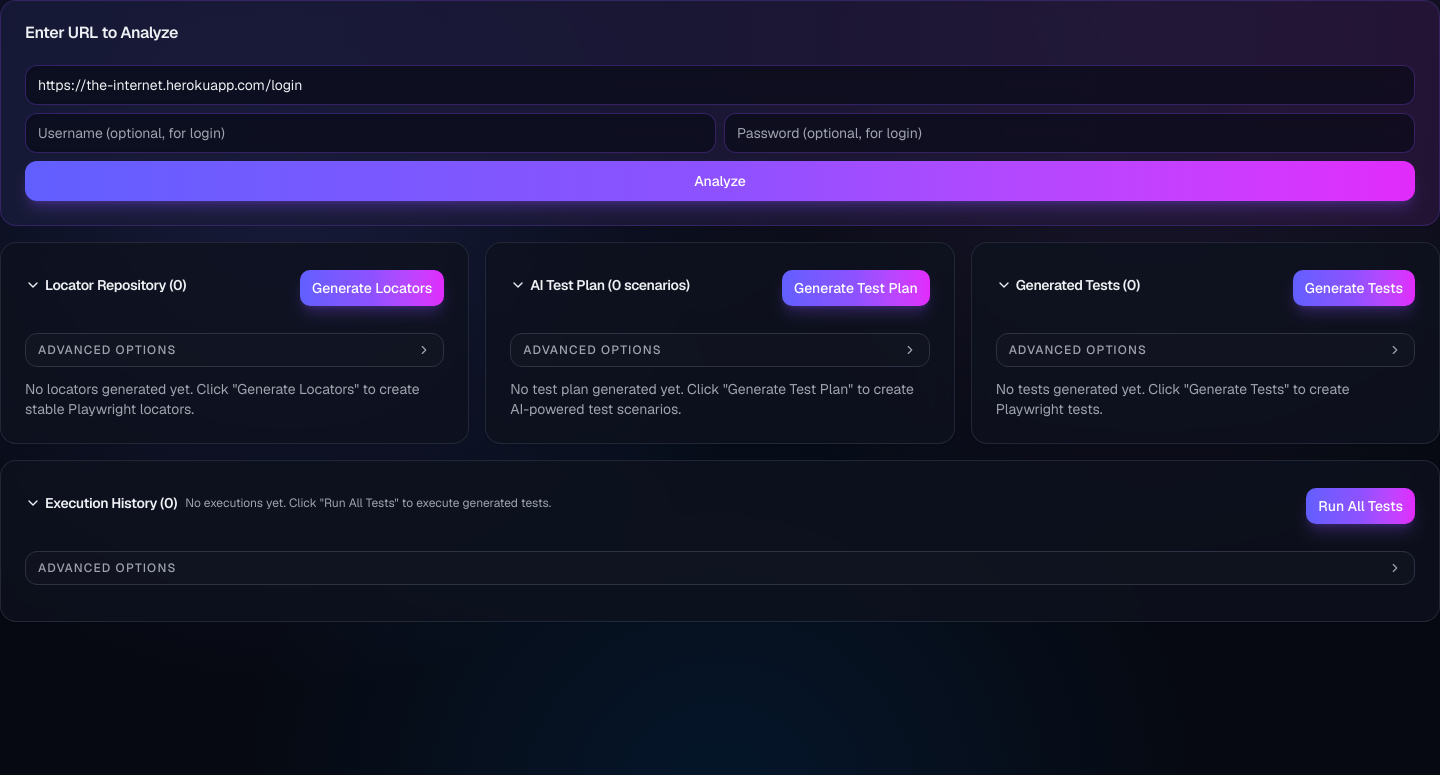
Scenario: QaWorkflow › passes the url, the project and the typed instruction to locator generation
Click the button "Analyze".
click(720, 181)  # box x1=25 y1=161 x2=1415 y2=201
(page scrolled)
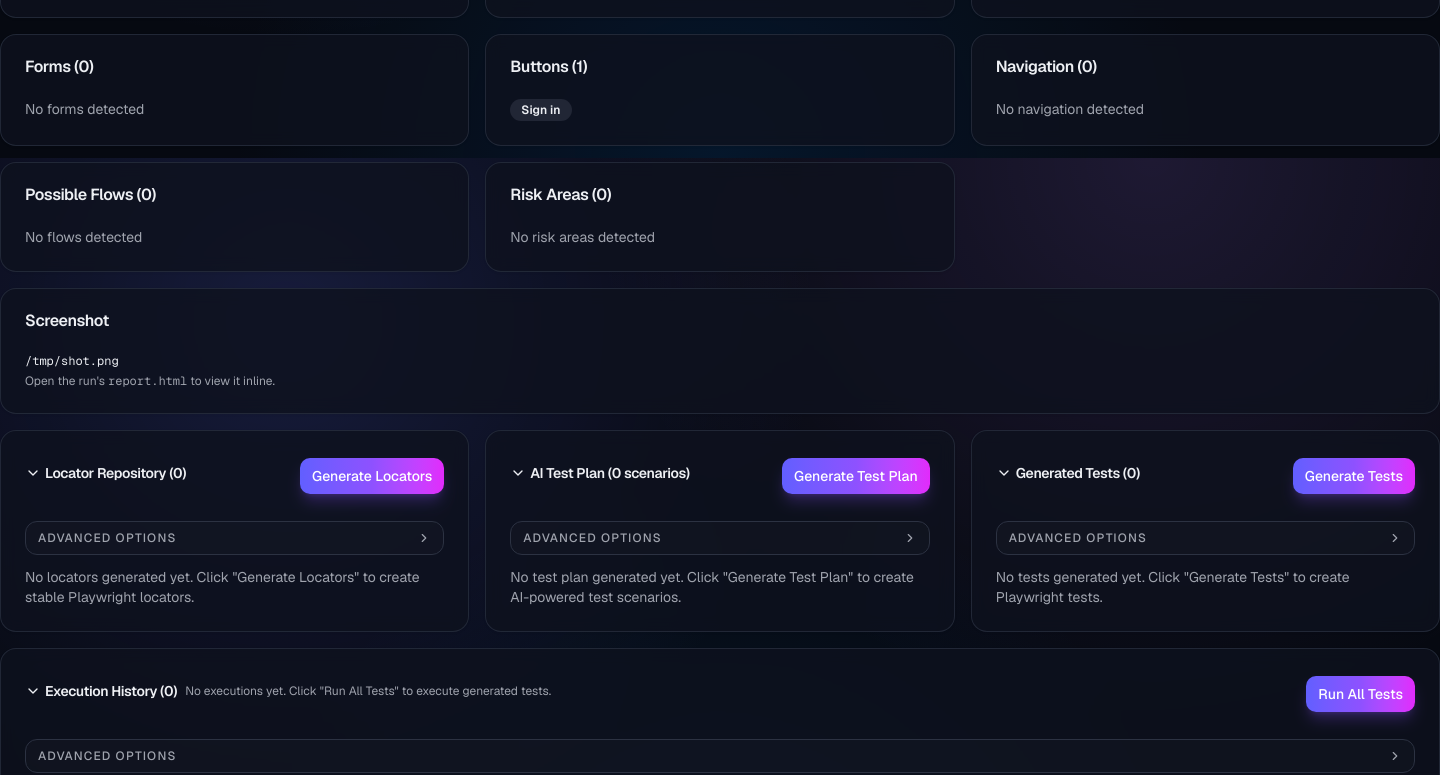
Expected: the text "Locator Repository" shows "Generate Locators", x1=300 y1=458 x2=444 y2=494
Click the 1st button "Advanced options".
click(107, 538)  # box x1=26 y1=522 x2=443 y2=554
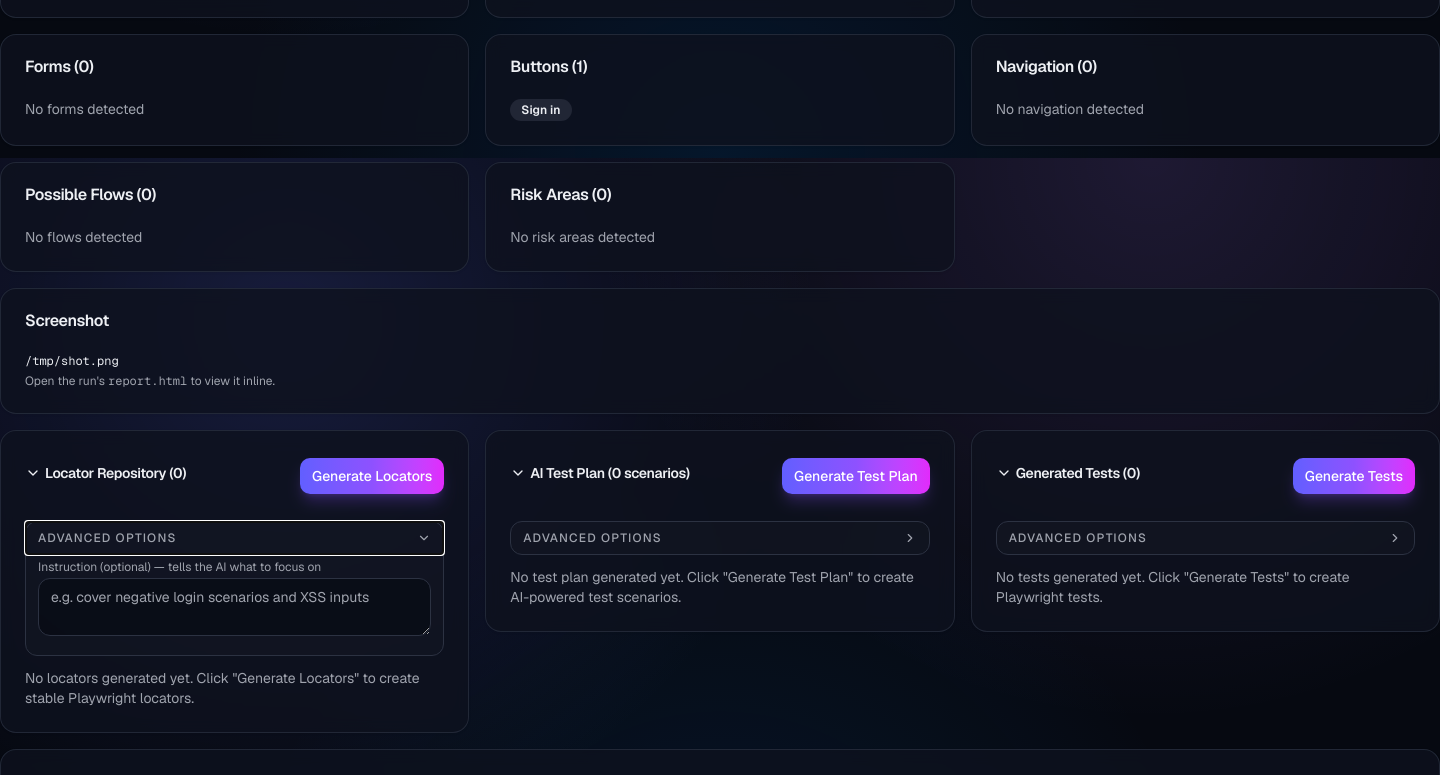
Type "focus on the email field" into the text box with placeholder "e.g. cover negative login scenarios and XSS inputs".
click(235, 607); type("focus on the email field")  # box x1=38 y1=578 x2=431 y2=636
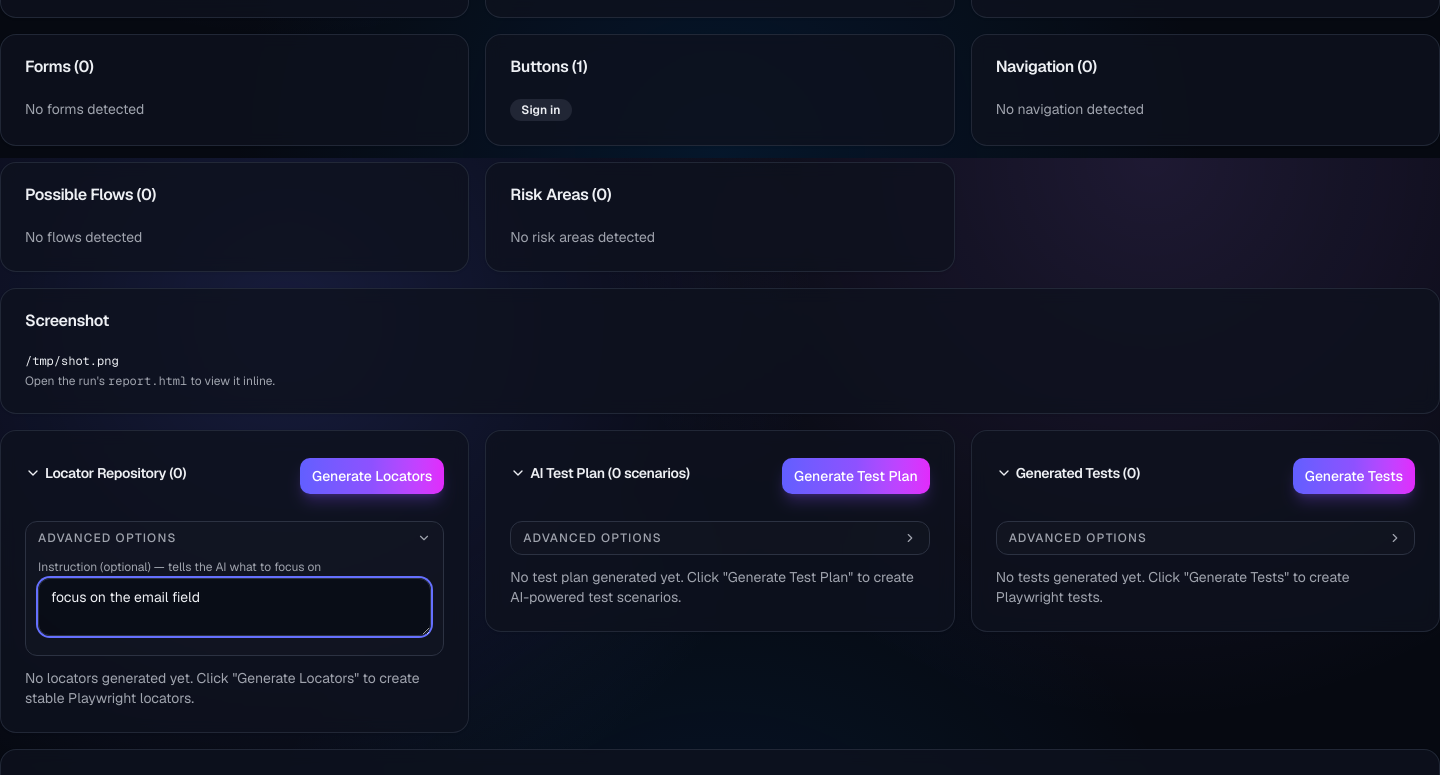
Click the button "Generate Locators".
click(372, 476)  # box x1=300 y1=458 x2=444 y2=494
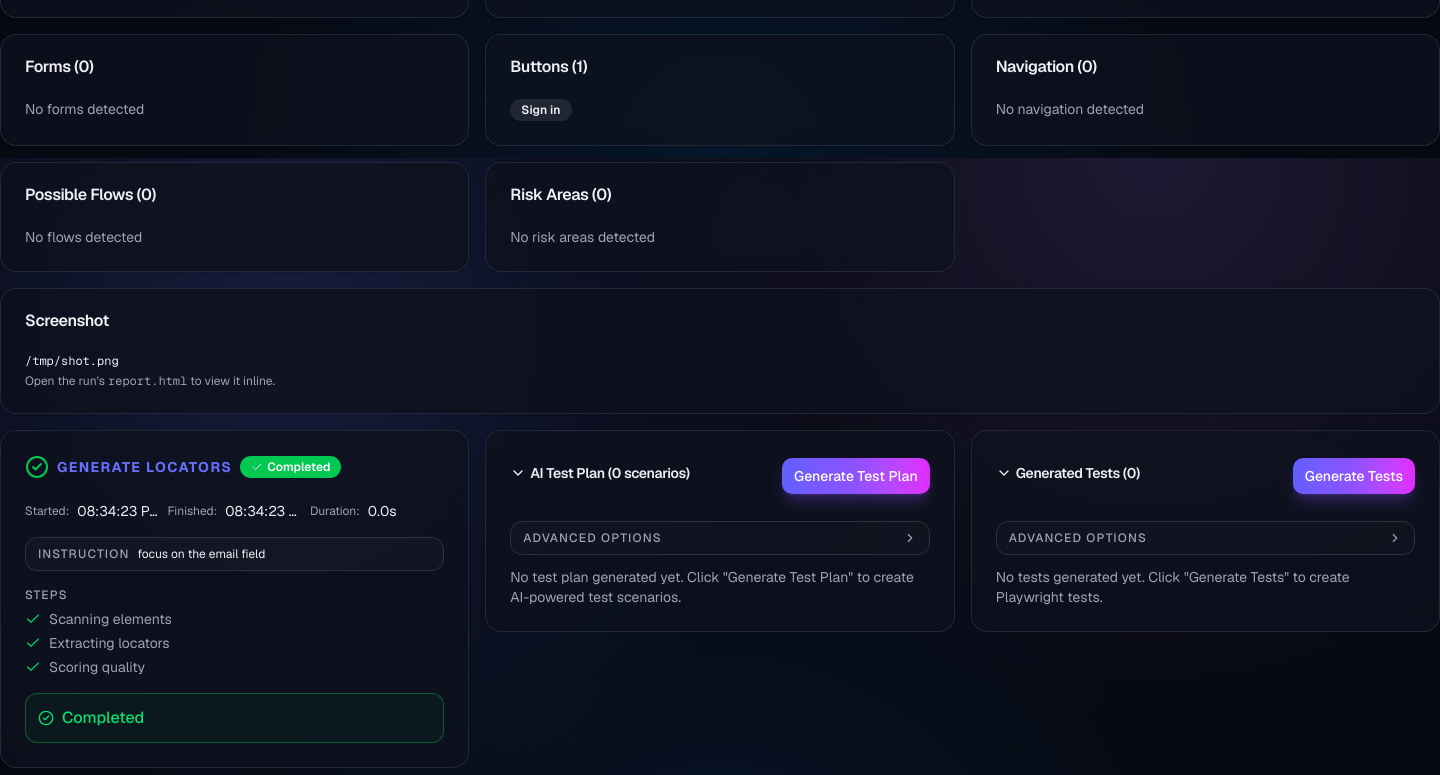
Expected: the text "focus on the email field" is shown, x1=138 y1=546 x2=265 y2=562
